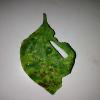Bell_pepper leaf spot: (12, 11, 86, 96)
